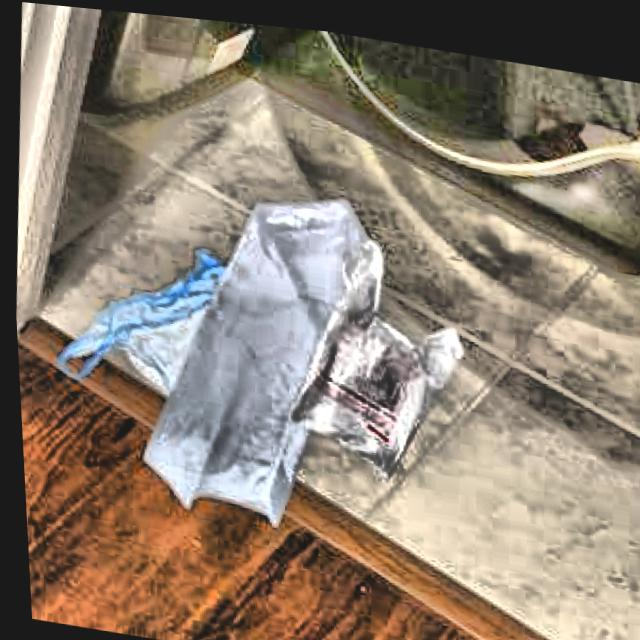Plastic: (78, 148, 411, 572), (50, 215, 342, 467), (272, 233, 464, 486)
